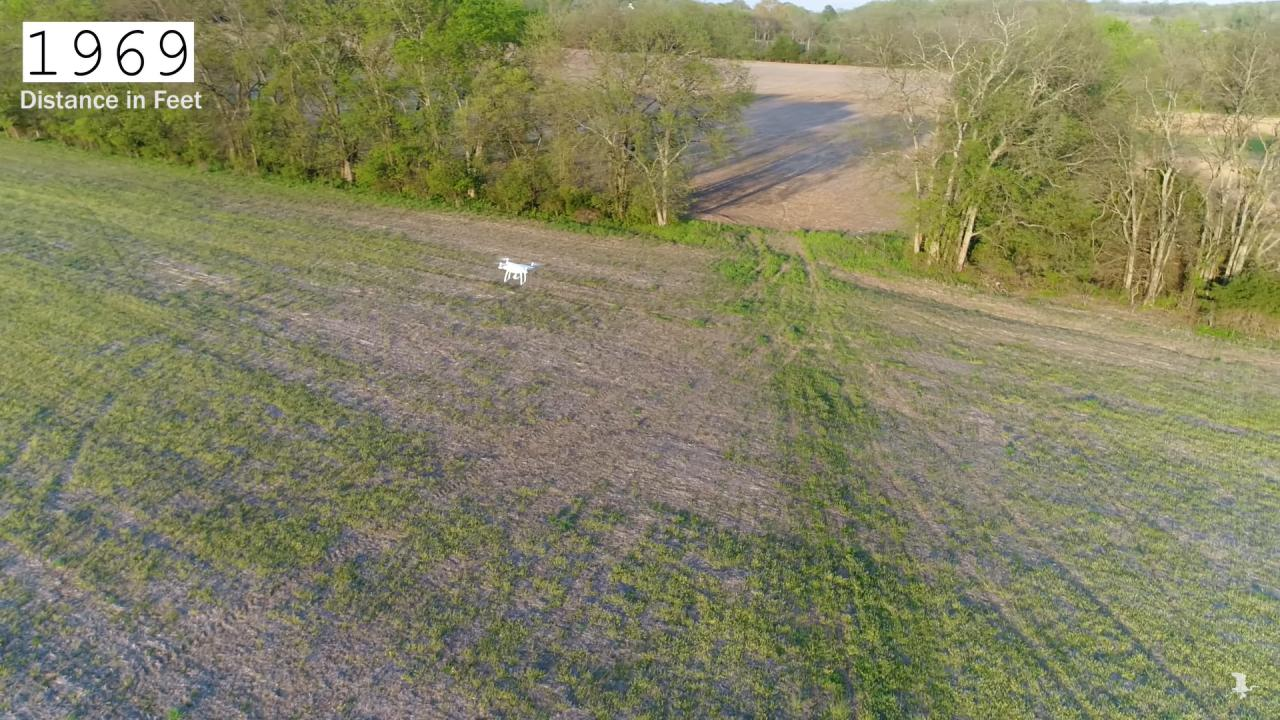Drone: (486, 248, 551, 294)
